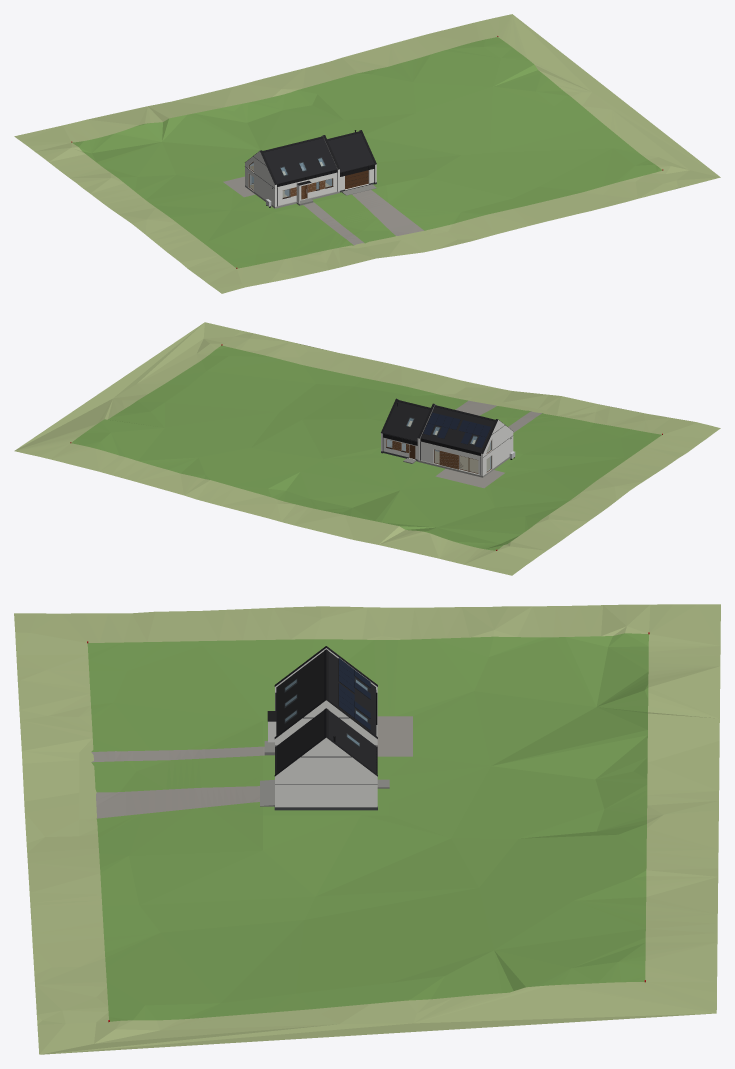
File: dom_garaz_teren_braz.glb
The picture shows the model from 3 angles, top to bottom: view 1: azimuth 30°, elevation 25°; view 2: azimuth 150°, elevation 25°; view 3: azimuth 270°, elevation 25°; orthographic projection. The views are drawn at different scales.
Visible parts, largest first — view 1: Teren – działka, Teren – otoczenie, Teren – utwardzenia, Dom – Dach – połać frontowa, Garaż – Dach – połać frontowa, Dom – Ściana szczytowa lewa, Dom – Ściana frontowa; view 2: Teren – działka, Teren – otoczenie, Teren – utwardzenia, Dom – Dach – połać ogrodowa, Garaż – Dach – połać ogrodowa, Dom – Instalacja fotowoltaiczna, Dom – Ściana szczytowa lewa, Dom – Ściana ogrodowa; view 3: Teren – działka, Teren – otoczenie, Teren – utwardzenia, Garaż – Ściana szczytowa prawa, Dom – Dach – połać frontowa, Garaż – Dach – połać frontowa, Garaż – Dach – połać ogrodowa, Dom – Instalacja fotowoltaiczna, Dom – Dach – połać ogrodowa, Dom – Ściana szczytowa prawa.
Part boxes in pixels (x1,y1,x2,y2): Teren – działka: [72, 37, 662, 268]; Teren – otoczenie: [14, 14, 720, 293]; Teren – utwardzenia: [223, 176, 424, 245]; Dom – Dach – połać frontowa: [263, 138, 337, 183]; Garaż – Dach – połać frontowa: [328, 133, 374, 172]; Dom – Ściana szczytowa lewa: [245, 151, 276, 206]; Dom – Ściana frontowa: [277, 172, 337, 205]; Teren – działka: [71, 345, 661, 550]; Teren – otoczenie: [14, 322, 720, 575]; Teren – utwardzenia: [435, 400, 541, 488]; Dom – Dach – połać ogrodowa: [420, 407, 494, 452]; Garaż – Dach – połać ogrodowa: [383, 401, 429, 441]; Dom – Instalacja fotowoltaiczna: [423, 412, 490, 447]; Dom – Ściana szczytowa lewa: [481, 420, 513, 475]; Dom – Ściana ogrodowa: [420, 441, 480, 474]; Teren – działka: [87, 633, 648, 1021]; Teren – otoczenie: [14, 604, 720, 1054]; Teren – utwardzenia: [91, 716, 412, 818]; Garaż – Ściana szczytowa prawa: [275, 737, 377, 807]; Dom – Dach – połać frontowa: [276, 651, 323, 735]; Garaż – Dach – połać frontowa: [276, 710, 323, 772]; Garaż – Dach – połać ogrodowa: [328, 710, 375, 772]; Dom – Instalacja fotowoltaiczna: [338, 658, 370, 730]; Dom – Dach – połać ogrodowa: [328, 651, 375, 735]; Dom – Ściana szczytowa prawa: [275, 700, 377, 746].
Size of the model in its own units: 83.06 by 9.05 by 59.08.
